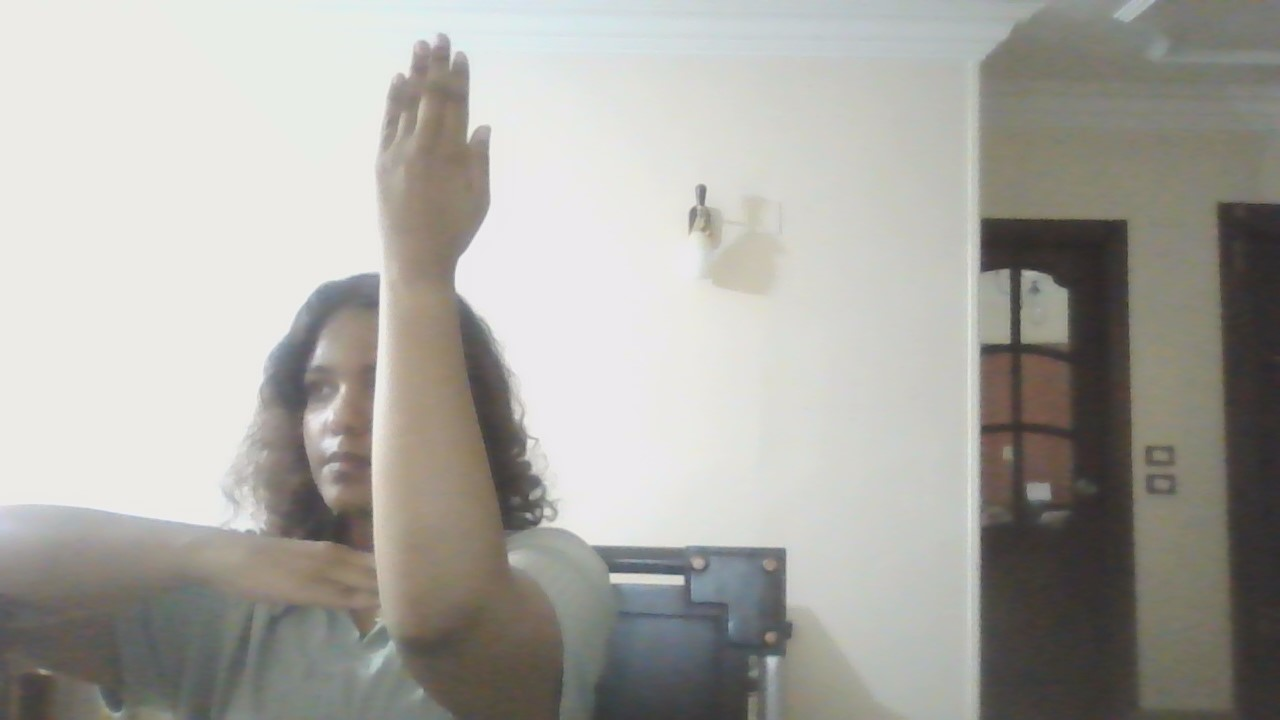morning: (1, 23, 630, 720)
